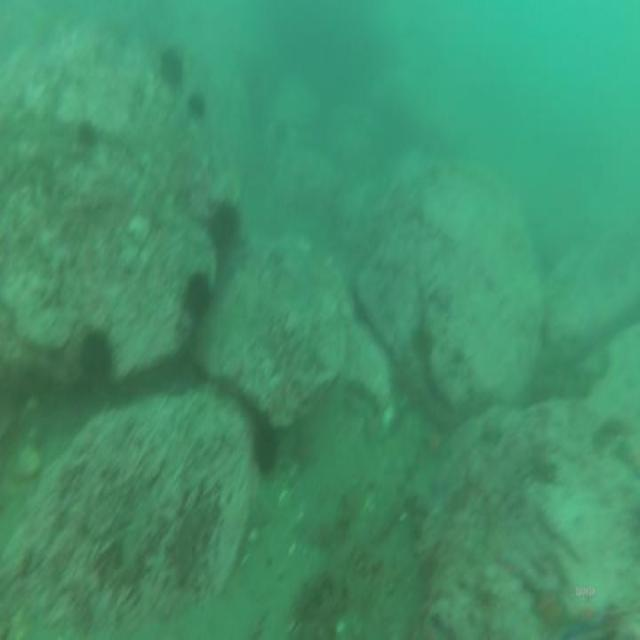echinus: (254, 416, 278, 464), (214, 202, 238, 244), (84, 335, 108, 373), (186, 278, 209, 316), (163, 49, 181, 82), (79, 120, 98, 149), (187, 92, 205, 122)
starfish: (529, 586, 565, 630), (420, 422, 448, 455)
